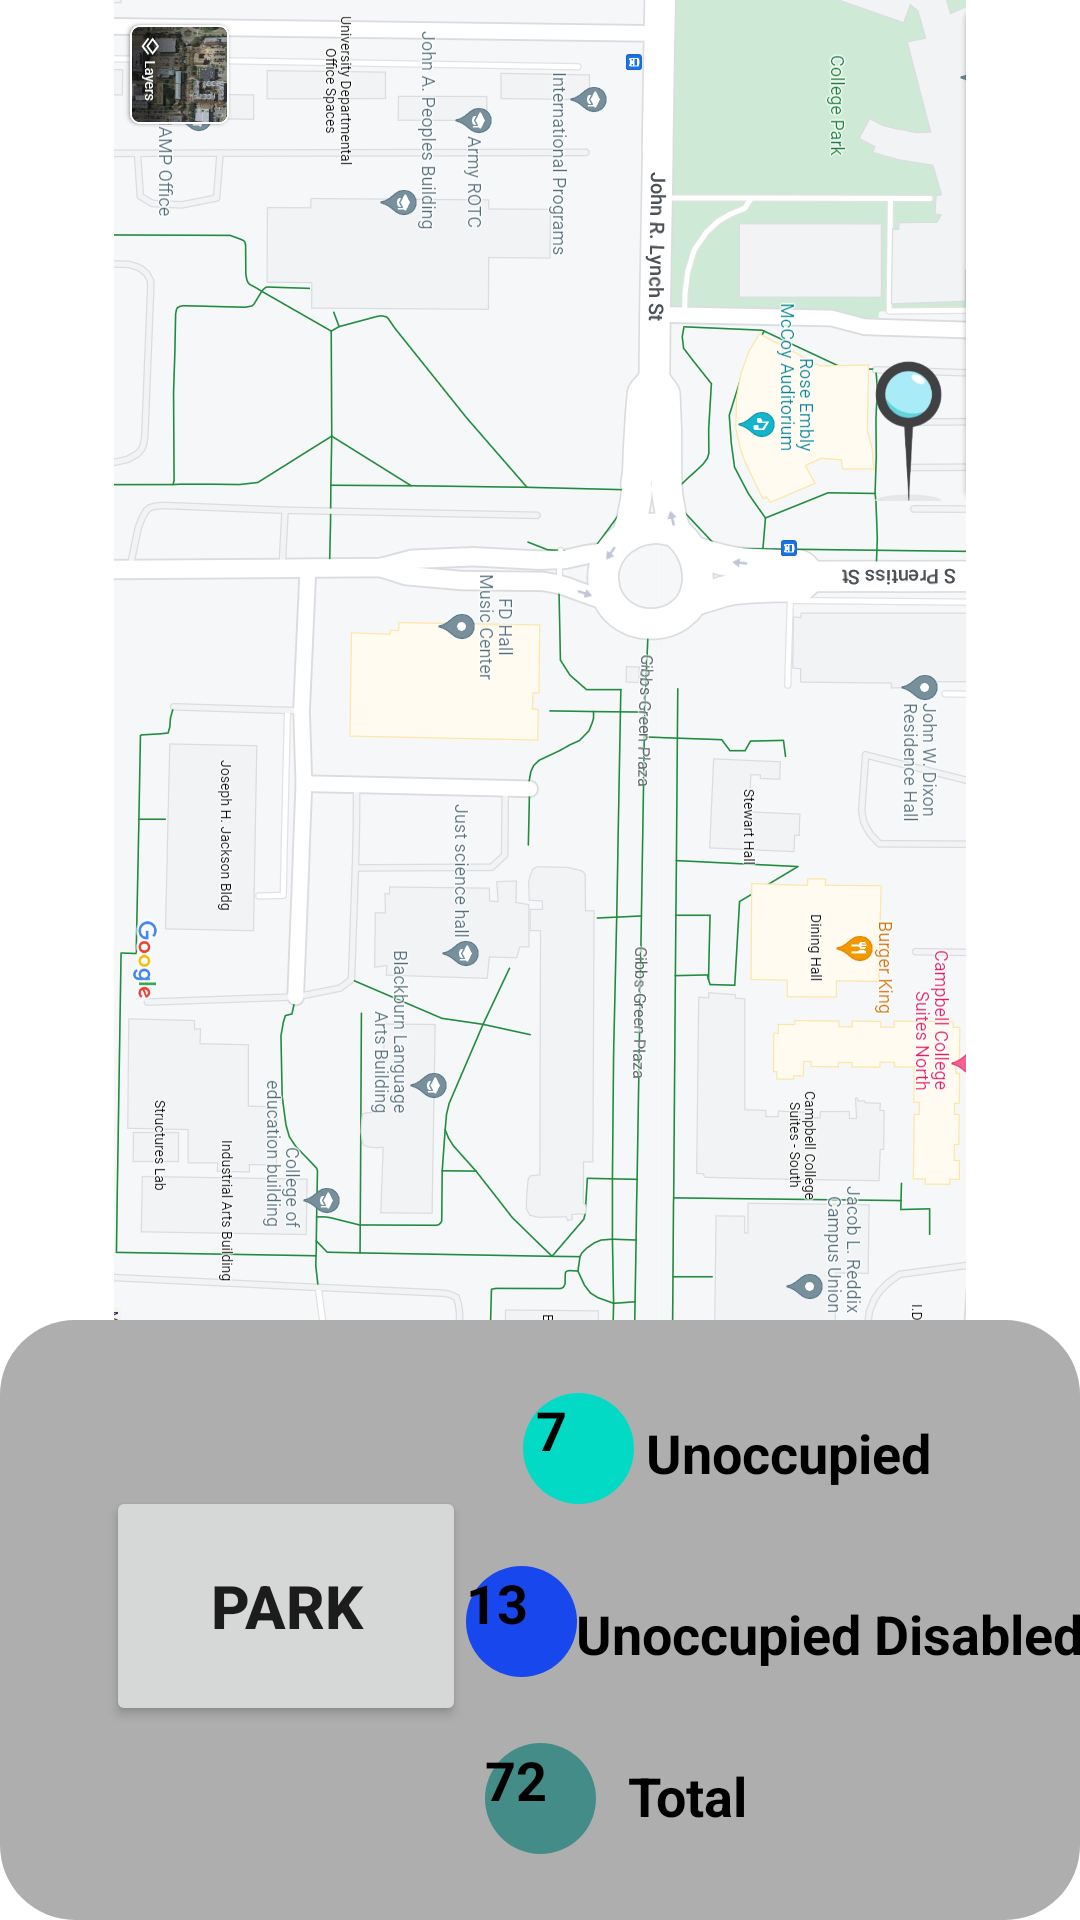

Named icons in this screenshot (1080px x 1920px) and their bounding boxes, (x1, y1, x2, y2):
location pin: (836, 357, 966, 501)
